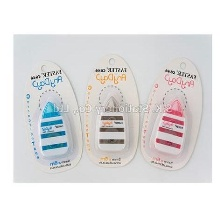book: (138, 54, 206, 172), (20, 58, 85, 174), (81, 51, 143, 170)
correction_fluid: (36, 98, 77, 161), (93, 94, 130, 154), (153, 98, 188, 156)
